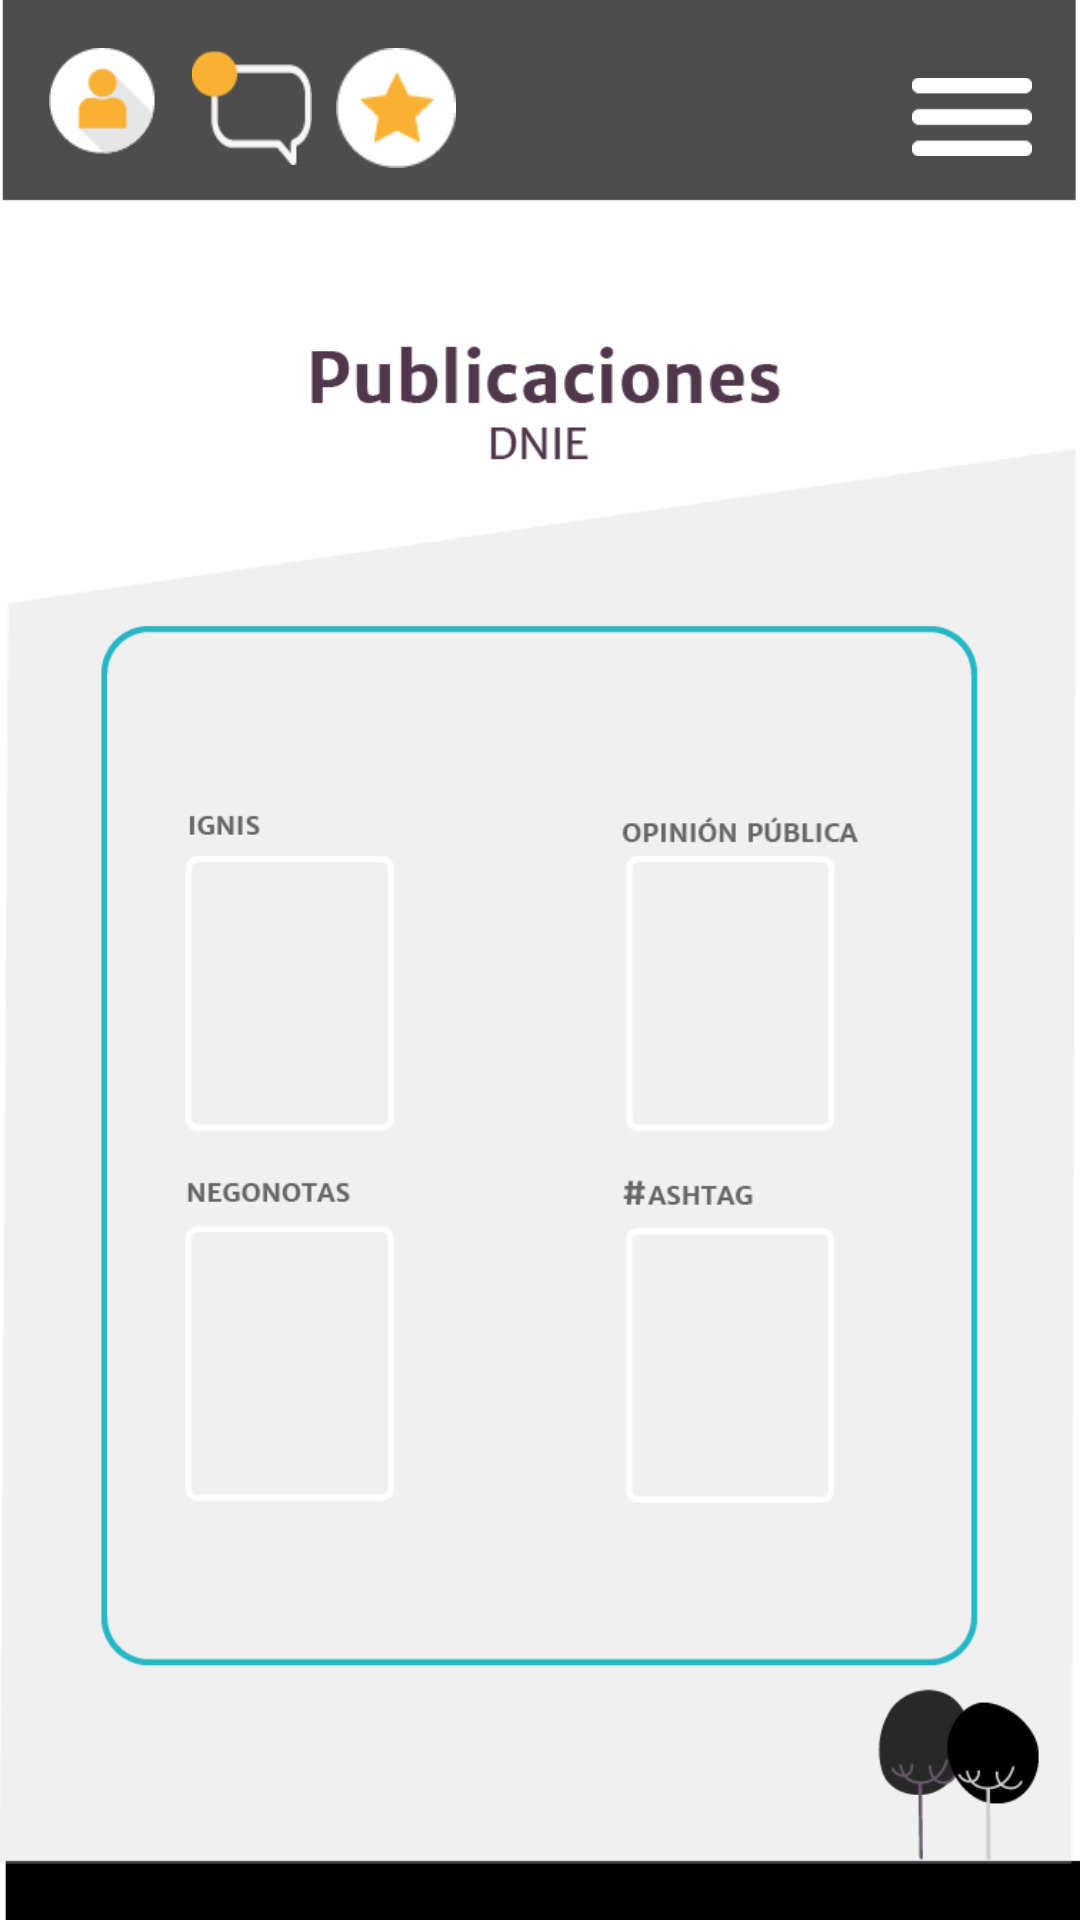

Icons on this 1080 x 1920 Android screen, each with its box as (x1, y1, x2, y2):
estrella: (336, 48, 456, 168)
login: (49, 48, 155, 154)
mensaje: (192, 51, 312, 165)
tres lineas: (912, 78, 1032, 156)
